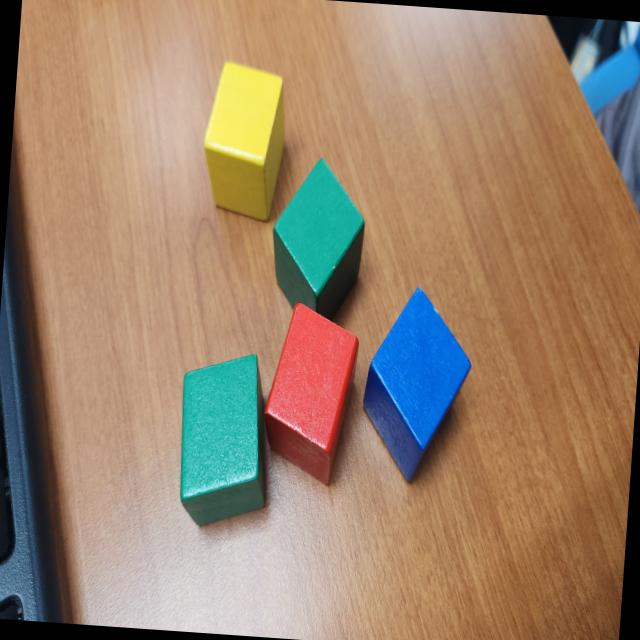blue: (355, 282, 477, 488)
green: (170, 346, 278, 531), (266, 153, 370, 330)
red: (259, 299, 362, 488)
yellow: (195, 59, 292, 224)
